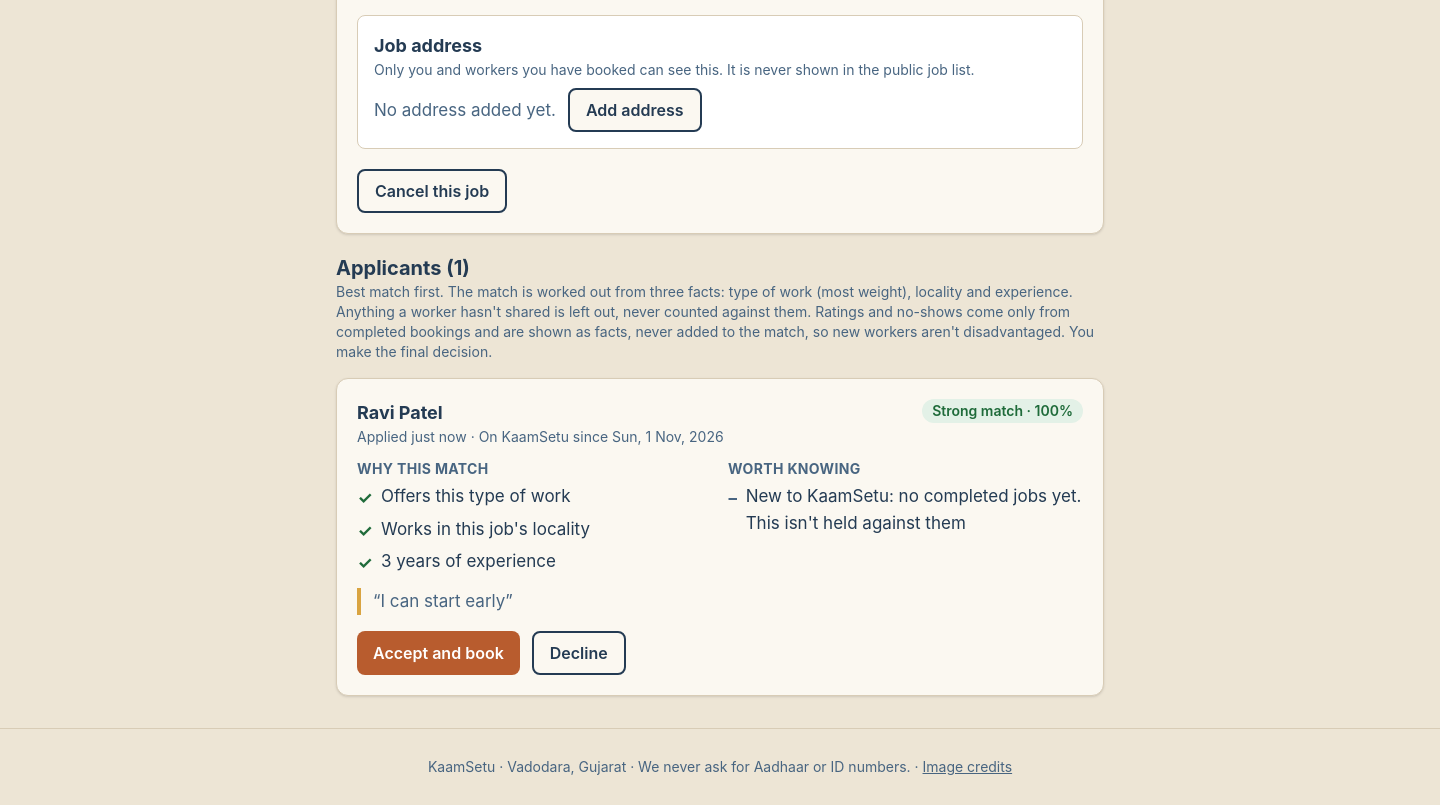
Test case: applicants: evidence, accept, decline › accepts an applicant through the API and shows confirmation
This screenshot has width=1440, height=805.
(page scrolled)
expect the element named "Applicant Ravi Patel" is shown: met, box [357,399,1083,675]
Click the button "Accept and book". click: (438, 653)
box: [357,631,520,675]
(page scrolled)
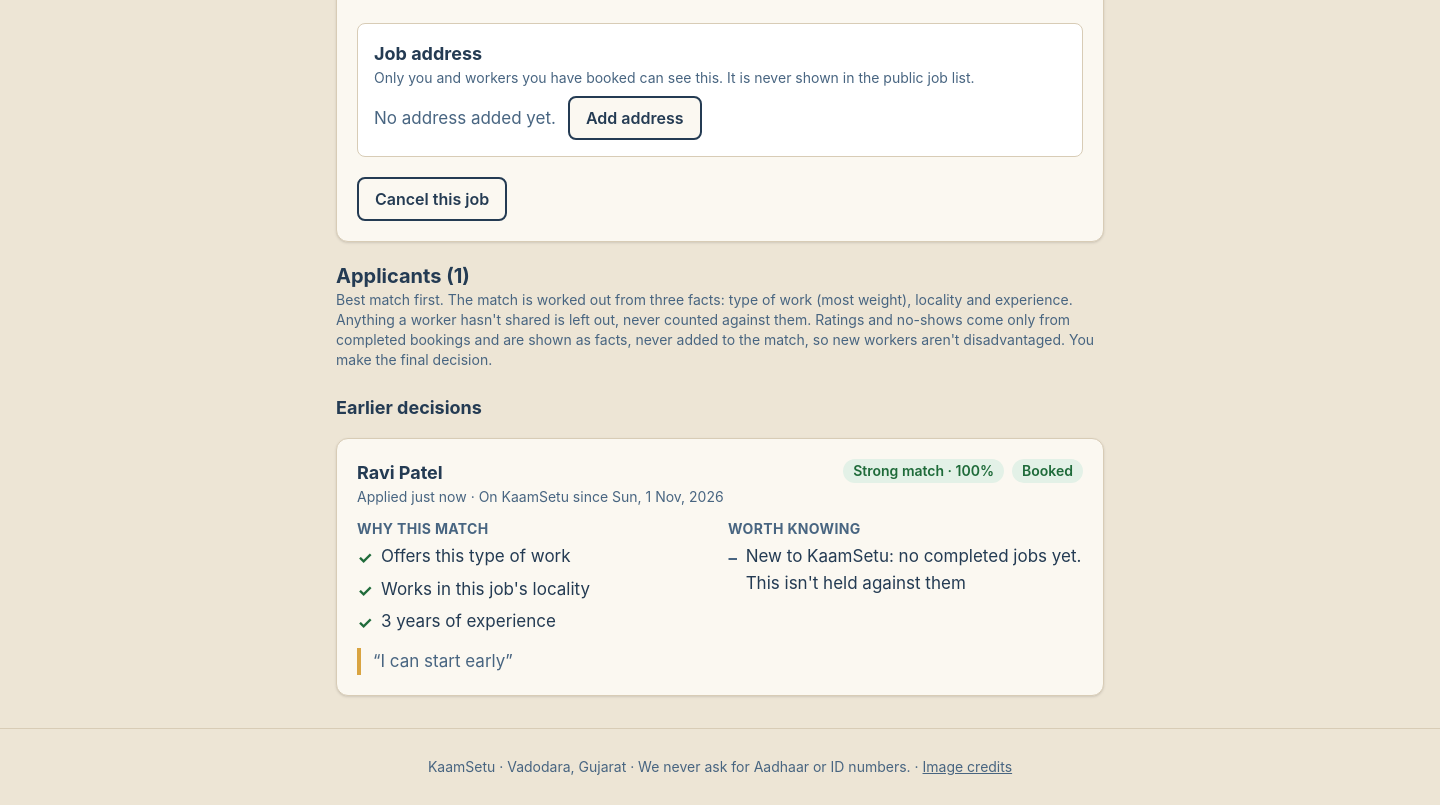
expect the text "Booked" is shown: met, box [1012,459,1083,483]
expect the button "Accept and book" is gone: met
